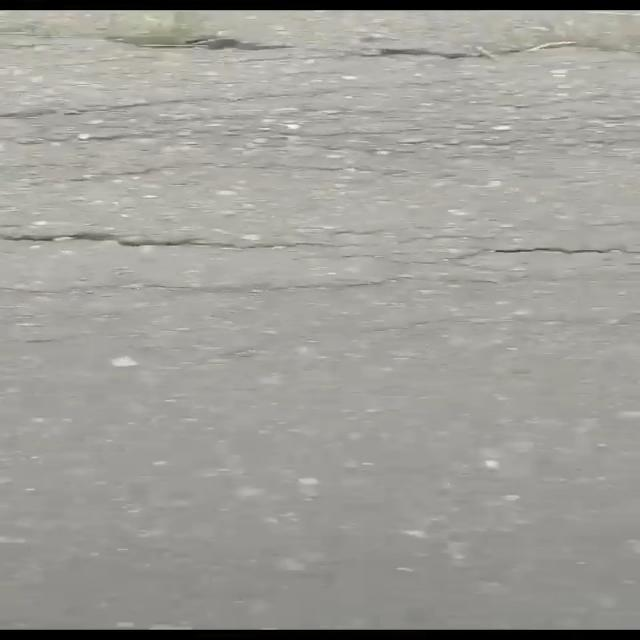Melintang: (0, 223, 384, 265), (472, 231, 640, 261)
